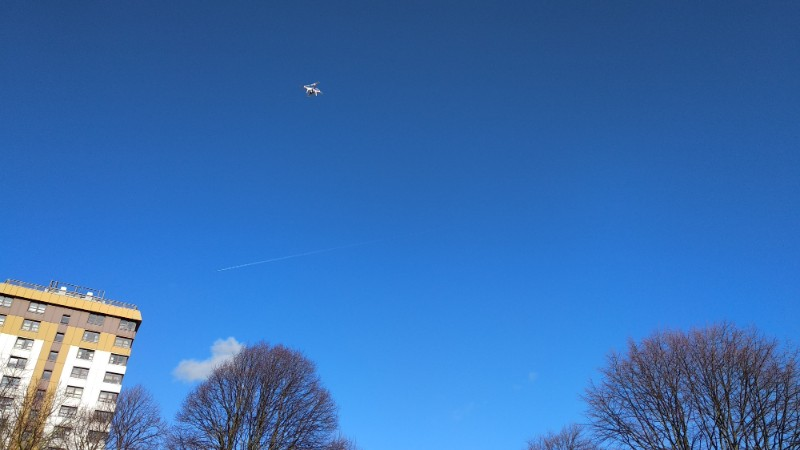drone: (301, 78, 324, 100)
